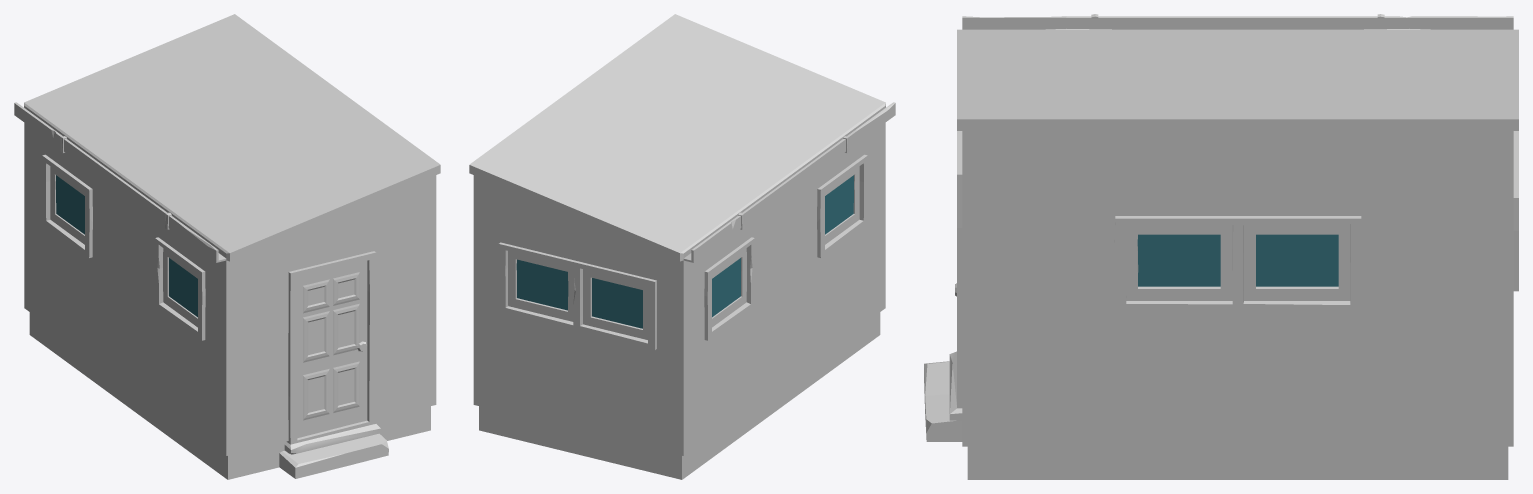
3 renders of one model, left to right at view 1: azimuth 30°, elevation 25°; view 2: azimuth 150°, elevation 25°; view 3: azimuth 270°, elevation 25°, orthographic. The views are drawn at different scales.
Parts seen in each view (by area): view 1: SM_Bld_SmallBuilding_02, SM_Bld_SmallBuilding_02_Glass; view 2: SM_Bld_SmallBuilding_02, SM_Bld_SmallBuilding_02_Glass; view 3: SM_Bld_SmallBuilding_02, SM_Bld_SmallBuilding_02_Glass.
Part boxes in pixels (bbox=[...]): SM_Bld_SmallBuilding_02: bbox=[14, 14, 440, 479]; SM_Bld_SmallBuilding_02_Glass: bbox=[56, 175, 197, 317]; SM_Bld_SmallBuilding_02: bbox=[469, 14, 895, 479]; SM_Bld_SmallBuilding_02_Glass: bbox=[516, 175, 853, 328]; SM_Bld_SmallBuilding_02: bbox=[924, 14, 1518, 479]; SM_Bld_SmallBuilding_02_Glass: bbox=[1137, 234, 1338, 286].
Size of the model in its own units: 3.22 by 3.65 by 5.4.
